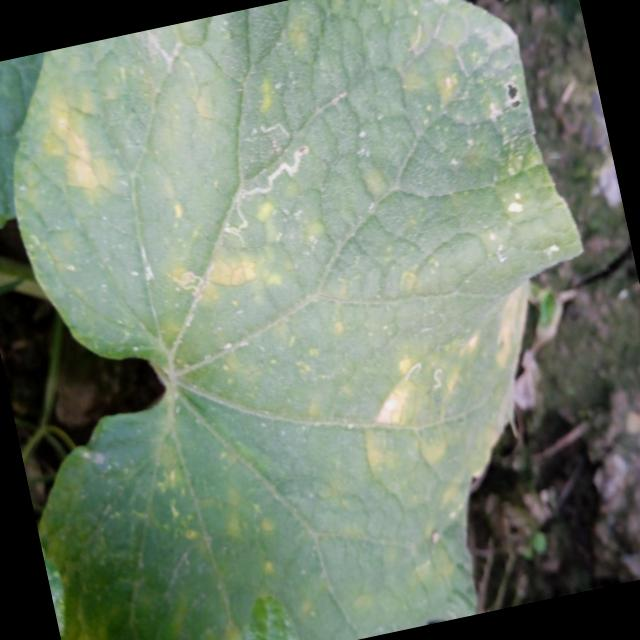cucumber_downy: (20, 0, 603, 366), (178, 71, 578, 590)
